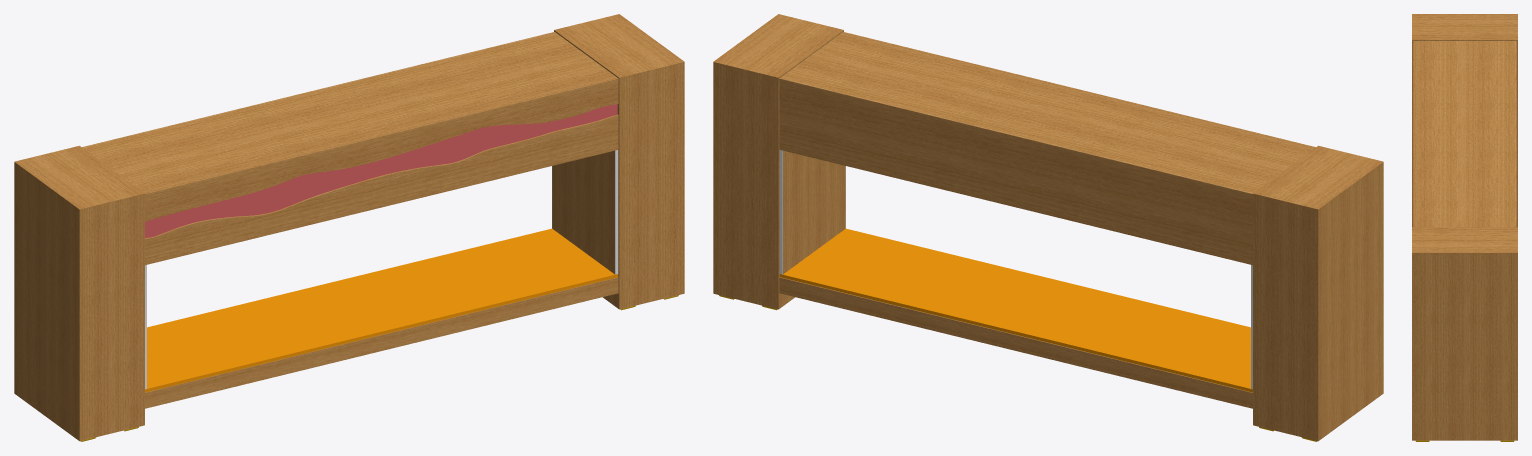
File: IFD4851CNSX94-mwmnqbi3.glb
3 views of the same model, side by side, from view 1: azimuth 30°, elevation 25°; view 2: azimuth 150°, elevation 25°; view 3: azimuth 270°, elevation 25° (orthographic). The views are drawn at different scales.
Visible parts, largest first — view 1: IFD4851CNSX-TABLERO FRONTAL-4, IFD4851CNSX-TABLERO CUBIERTA-2, IFD4851CNSX-TABLERO ENTREPAÑO-1, IFD4851CNSX-TABLERO LATERAL PATA-3, IFD4851CNSX-TABLERO FRONTAL PATA-1, IFD4851CNSX-TABLERO LATERAL PATA-5, IFD4851CNSX-TABLERO CUBIERTA PATA-1 (×2), IFD4851CNSX-TABLERO FRONTAL ENTREPAÑO-1, IFD4851CNSX-TABLERO RELLENO INTERNO-1, IFD4851CNSX-TABLERO FRONTAL PATA-2; view 2: IFD4851CNSX-TABLERO FRONTAL-3, IFD4851CNSX-TABLERO CUBIERTA-2, IFD4851CNSX-TABLERO ENTREPAÑO-1, IFD4851CNSX-TABLERO LATERAL PATA-5, IFD4851CNSX-TABLERO FRONTAL PATA-1, IFD4851CNSX-TABLERO LATERAL PATA-3, IFD4851CNSX-TABLERO CUBIERTA PATA-1 (×2), IFD4851CNSX-TABLERO FRONTAL ENTREPAÑO-2, IFD4851CNSX-TABLERO RELLENO INTERNO-1, IFD4851CNSX-TABLERO FRONTAL PATA-2; view 3: IFD4851CNSX-TABLERO FRONTAL PATA-1, IFD4851CNSX-TABLERO CUBIERTA-2, IFD4851CNSX-TABLERO CUBIERTA PATA-1 (×2), IFD4851CNSX-TABLERO FRONTAL PATA-2.
Boxes of the visible parts, bbox=[...] form: IFD4851CNSX-TABLERO FRONTAL-4: bbox=[145, 78, 618, 265]; IFD4851CNSX-TABLERO CUBIERTA-2: bbox=[82, 32, 618, 193]; IFD4851CNSX-TABLERO ENTREPAÑO-1: bbox=[145, 228, 618, 392]; IFD4851CNSX-TABLERO LATERAL PATA-3: bbox=[619, 62, 684, 309]; IFD4851CNSX-TABLERO FRONTAL PATA-1: bbox=[14, 162, 79, 440]; IFD4851CNSX-TABLERO LATERAL PATA-5: bbox=[79, 193, 144, 440]; IFD4851CNSX-TABLERO CUBIERTA PATA-1 (×2): bbox=[14, 14, 684, 209]; IFD4851CNSX-TABLERO FRONTAL ENTREPAÑO-1: bbox=[145, 277, 618, 408]; IFD4851CNSX-TABLERO RELLENO INTERNO-1: bbox=[552, 150, 618, 274]; IFD4851CNSX-TABLERO FRONTAL PATA-2: bbox=[554, 30, 619, 308]; IFD4851CNSX-TABLERO FRONTAL-3: bbox=[779, 78, 1252, 265]; IFD4851CNSX-TABLERO CUBIERTA-2: bbox=[779, 32, 1315, 193]; IFD4851CNSX-TABLERO ENTREPAÑO-1: bbox=[779, 228, 1252, 392]; IFD4851CNSX-TABLERO LATERAL PATA-5: bbox=[713, 62, 778, 309]; IFD4851CNSX-TABLERO FRONTAL PATA-1: bbox=[1318, 162, 1383, 440]; IFD4851CNSX-TABLERO LATERAL PATA-3: bbox=[1253, 193, 1318, 440]; IFD4851CNSX-TABLERO CUBIERTA PATA-1 (×2): bbox=[713, 14, 1383, 209]; IFD4851CNSX-TABLERO FRONTAL ENTREPAÑO-2: bbox=[779, 277, 1252, 408]; IFD4851CNSX-TABLERO RELLENO INTERNO-1: bbox=[779, 150, 845, 274]; IFD4851CNSX-TABLERO FRONTAL PATA-2: bbox=[778, 30, 843, 308]; IFD4851CNSX-TABLERO FRONTAL PATA-1: bbox=[1412, 253, 1517, 440]; IFD4851CNSX-TABLERO CUBIERTA-2: bbox=[1413, 41, 1516, 227]; IFD4851CNSX-TABLERO CUBIERTA PATA-1 (×2): bbox=[1412, 14, 1517, 252]; IFD4851CNSX-TABLERO FRONTAL PATA-2: bbox=[1412, 40, 1517, 227].
Size of the model in its own units: 2.4 by 0.895 by 0.45.
9 materials, 4 textured.
